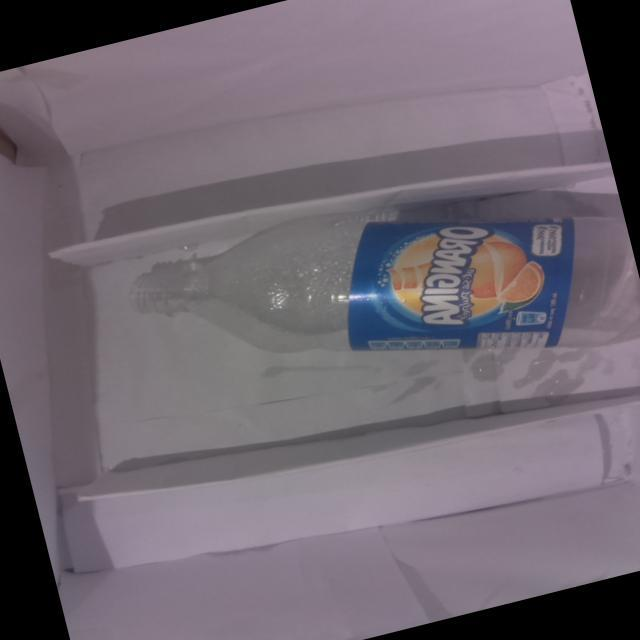good: (109, 126, 640, 462)
